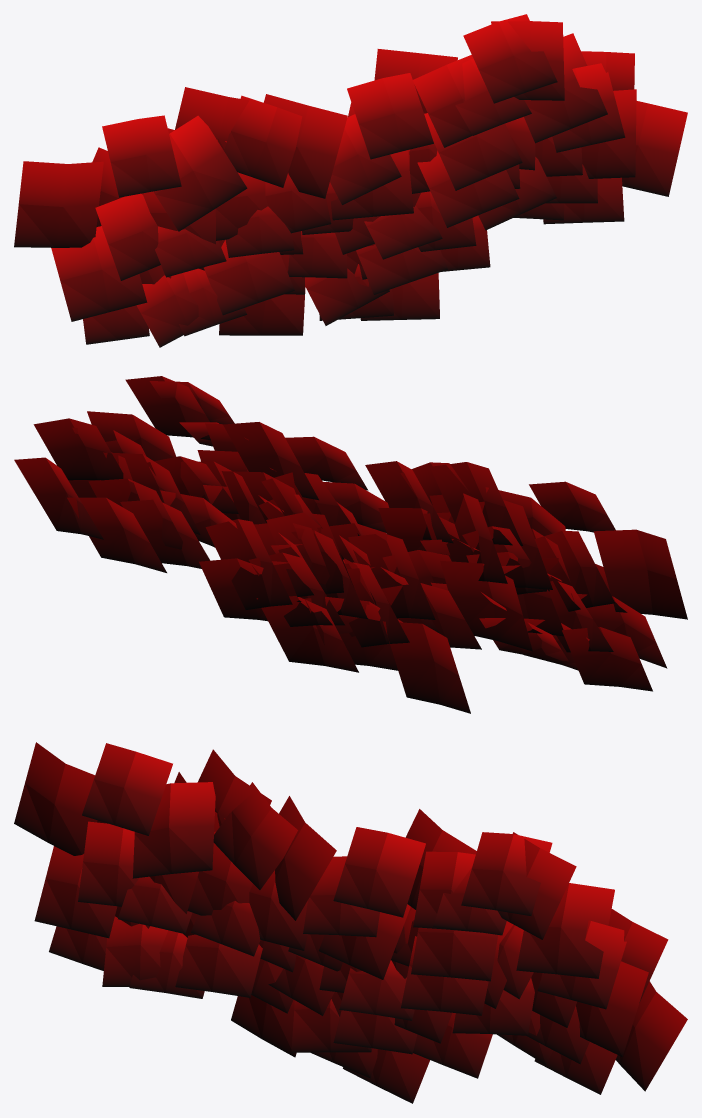
The model's file is Ivy02.fbx.
3 renders of one model, top to bottom at view 1: azimuth 30°, elevation 25°; view 2: azimuth 150°, elevation 25°; view 3: azimuth 330°, elevation 25°, orthographic. The views are drawn at different scales.
Visible parts, largest first — view 1: transform21; view 2: transform21; view 3: transform21.
Boxes of the visible parts, x1,y1,x2,y2 form: transform21: (14,14,687,347); transform21: (14,376,687,713); transform21: (14,742,687,1103).
Bounding box in the file's own units: 507 × 194 × 59.09.
